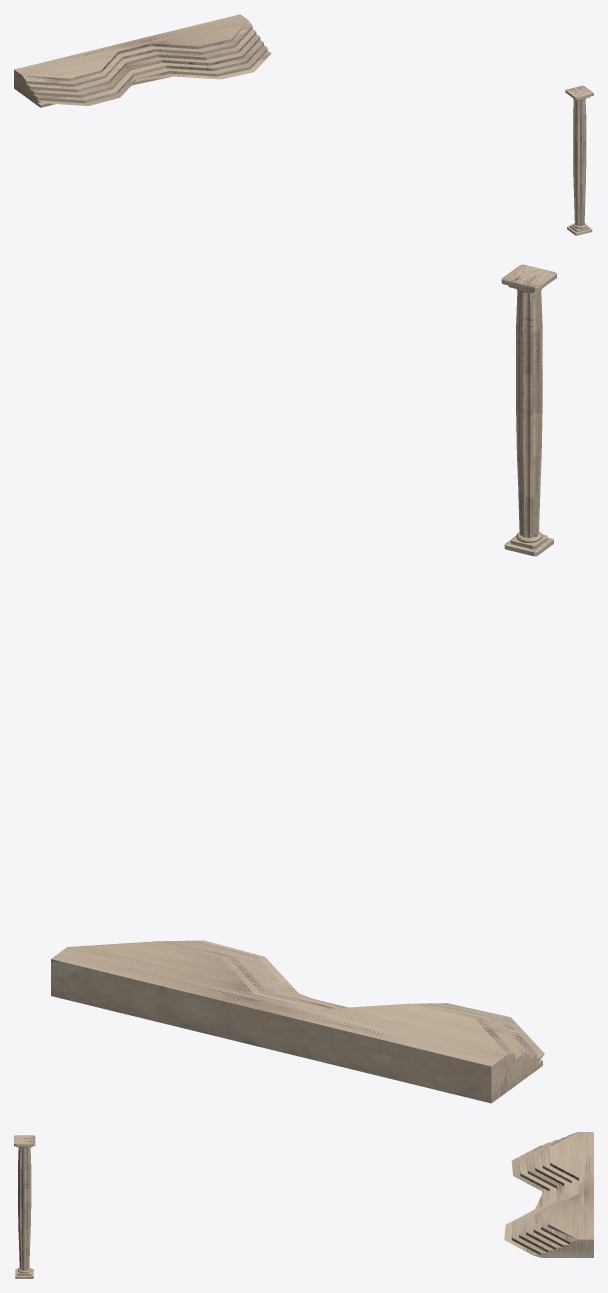
Rendered from TempleFull_Pillar.001.obj.
3 views of the same model, one above another, from view 1: azimuth 30°, elevation 25°; view 2: azimuth 150°, elevation 25°; view 3: azimuth 270°, elevation 25° (orthographic). The views are drawn at different scales.
Parts seen in each view (by area): view 1: Stairs_Inside_Cube.011, Full_Pillar.001_Cube.058; view 2: Stairs_Inside_Cube.011, Full_Pillar.001_Cube.058; view 3: Stairs_Inside_Cube.011, Full_Pillar.001_Cube.058.
Boxes of the visible parts, <box> form: Stairs_Inside_Cube.011: <box>14,14,271,107</box>; Full_Pillar.001_Cube.058: <box>565,85,593,235</box>; Stairs_Inside_Cube.011: <box>51,940,544,1103</box>; Full_Pillar.001_Cube.058: <box>501,264,556,556</box>; Stairs_Inside_Cube.011: <box>504,1132,593,1257</box>; Full_Pillar.001_Cube.058: <box>14,1135,35,1278</box>.
Bounding box in the file's own units: 11.39 × 5.56 × 20.81.
